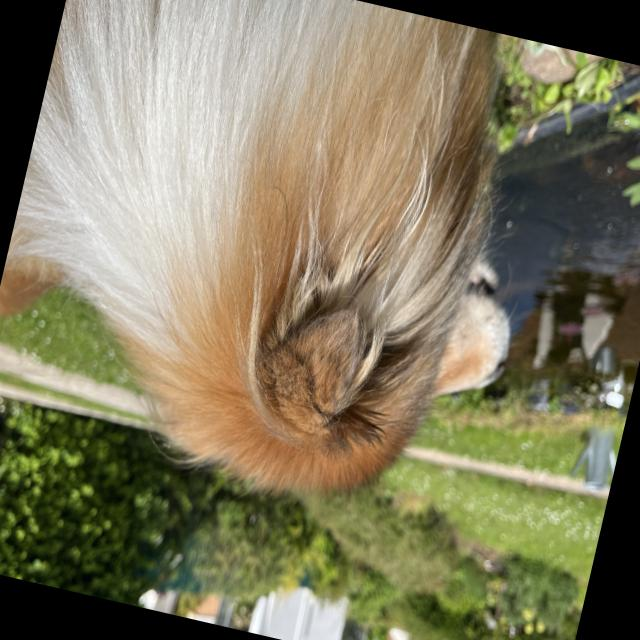Dog: (0, 0, 585, 560)
